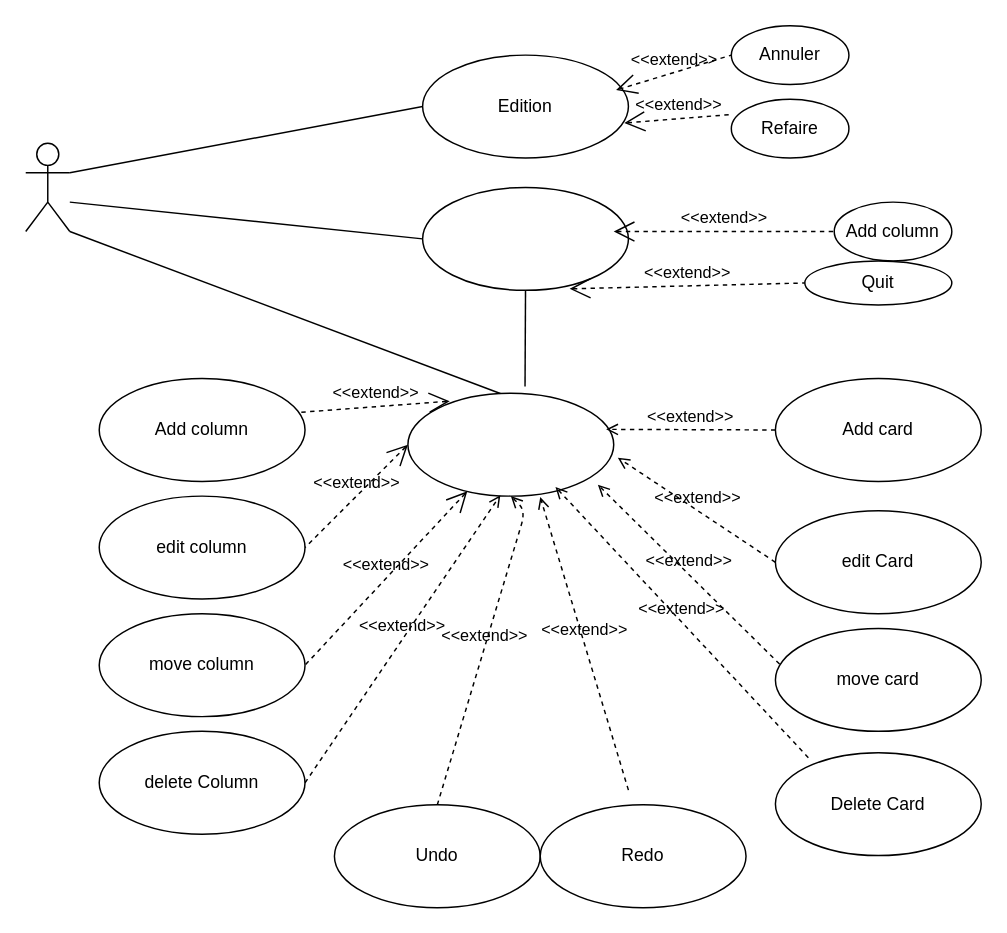
This 1007x933 diagram has some shape labels left out. Here are the shapes that lost their labels. From the top down, the box of each, then its label:
(24, 142, 70, 232): User
(421, 186, 628, 290): Fichier
(406, 392, 614, 496): OpenBoard
